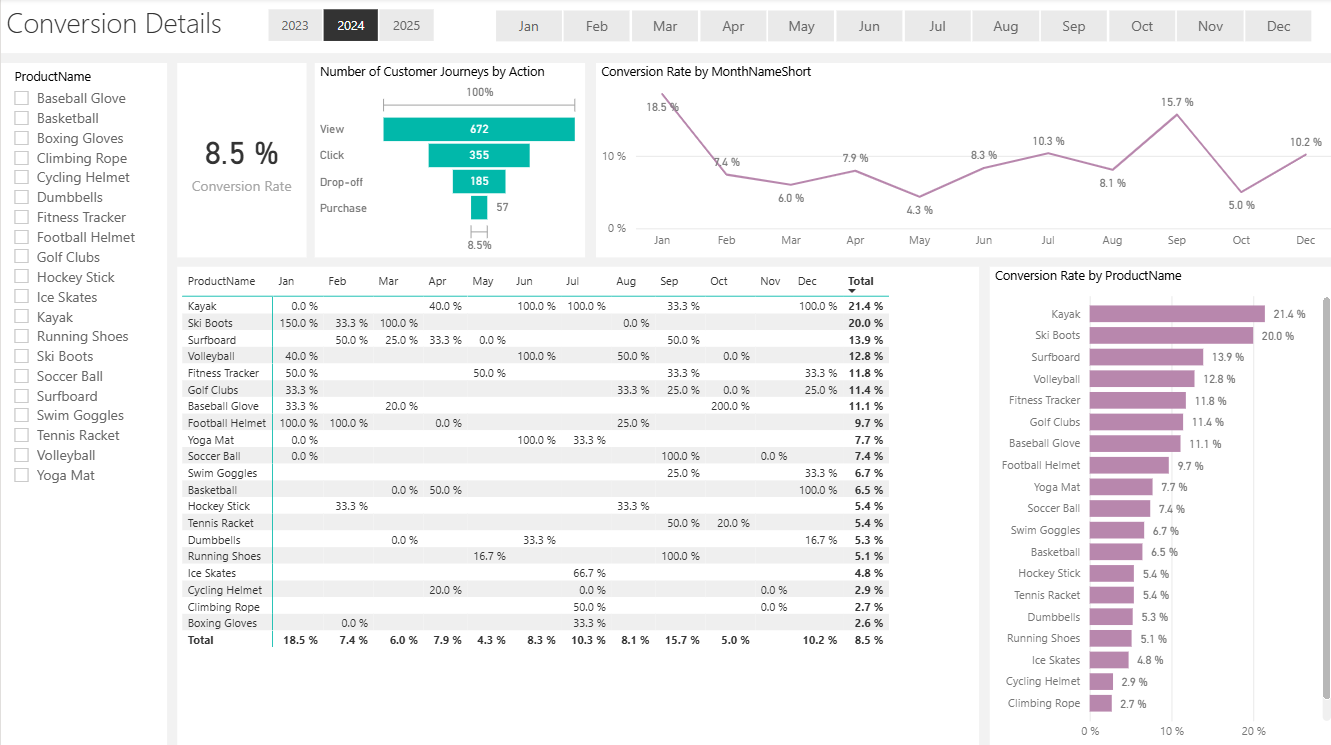

The page's visual inventory and layout, read from the dashboard file:
{"tool":"powerbi","page":{"name":"Conversion Details","canvas":[1280,720],"ordinal":1},"visuals":[{"type":"textbox","box":[0,0,1280,52.6],"z":0},{"type":"slicer","fields":{"Values":["dim_products.ProductName"]},"box":[0,61.9,159.4,658.4],"z":1000},{"type":"card","fields":{"Values":["_Calculations.Conversion Rate"]},"box":[168.5,61.9,123.8,186.7],"z":2000},{"type":"lineChart","fields":{"Category":["Calendar.MonthNameShort"],"Y":["_Calculations.Conversion Rate"]},"box":[570.1,61.9,710.3,186.7],"z":3000},{"type":"clusteredBarChart","fields":{"Category":["dim_products.ProductName"],"Y":["_Calculations.Conversion Rate"]},"box":[948,257.7,332.4,462.6],"z":4000},{"type":"slicer","fields":{"Values":["Calendar.Year"]},"box":[230.2,4.1,208.5,44.4],"z":5000},{"type":"slicer","fields":{"Values":["Calendar.MonthNameShort"]},"box":[448,4.6,832.3,43.7],"z":6000},{"type":"pivotTable","fields":{"Columns":["Calendar.MonthNameShort"],"Rows":["dim_products.ProductName"],"Values":["_Calculations.Conversion Rate"]},"box":[168.5,257.7,768.6,462.6],"z":7000},{"type":"funnel","fields":{"Category":["fact_customer_journey.Action"],"Y":["_Calculations.Number of Customer Journeys"]},"box":[301.4,61.9,259.5,186.7],"z":8000}]}

Visuals, with their boxes in screenshot pixels (x1, y1, x2, y2), scaled from the page's 1280x720 canvas onto the 1331x745 screenshot:
textbox: Rect(0, 0, 1330, 54)
slicer - dim_products.ProductName: Rect(0, 64, 166, 744)
card - _Calculations.Conversion Rate: Rect(175, 64, 304, 257)
lineChart - Calendar.MonthNameShort x _Calculations.Conversion Rate: Rect(593, 64, 1330, 257)
clusteredBarChart - dim_products.ProductName x _Calculations.Conversion Rate: Rect(986, 267, 1330, 744)
slicer - Calendar.Year: Rect(239, 4, 456, 50)
slicer - Calendar.MonthNameShort: Rect(466, 5, 1330, 50)
pivotTable - Calendar.MonthNameShort x dim_products.ProductName: Rect(175, 267, 974, 744)
funnel - fact_customer_journey.Action x _Calculations.Number of Customer Journeys: Rect(313, 64, 583, 257)
